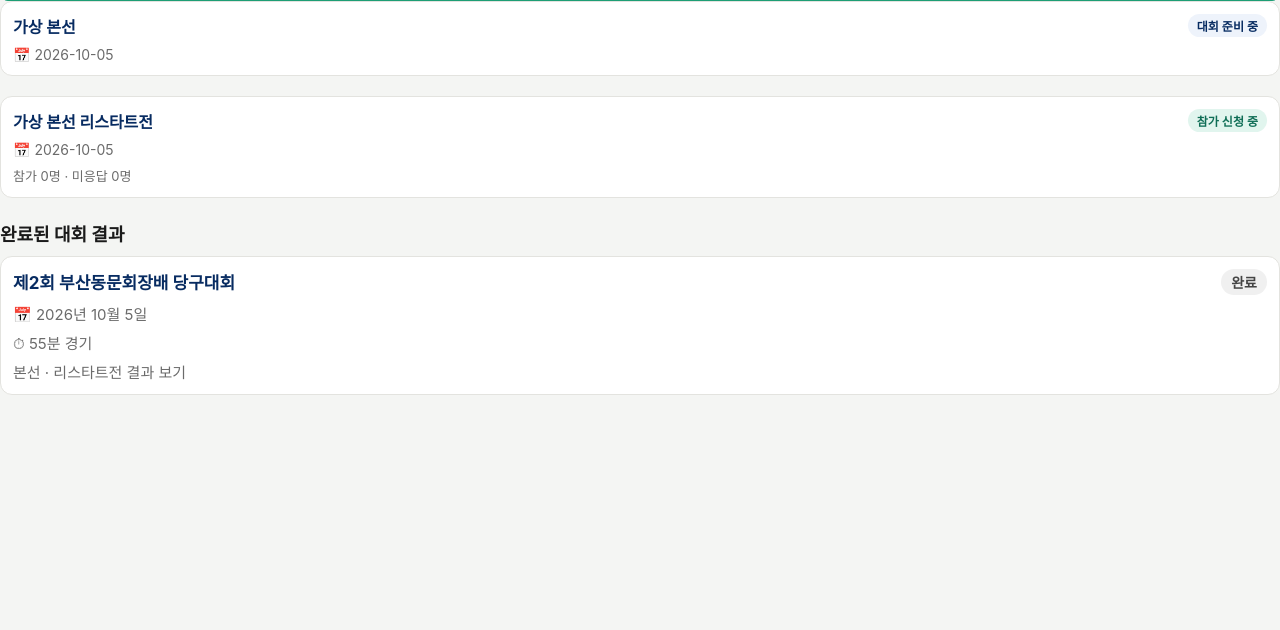
it: 리스타트 대진 자동 생성 (본선 화면, 관리자) › 본선 1차가 아직 다 승인되지 않았으면 만들 수 없다(승인 대기 경기는 반영하지 않음)
Click the text "가상 본선" at (44, 26), box [13, 14, 76, 38]
(page scrolled)
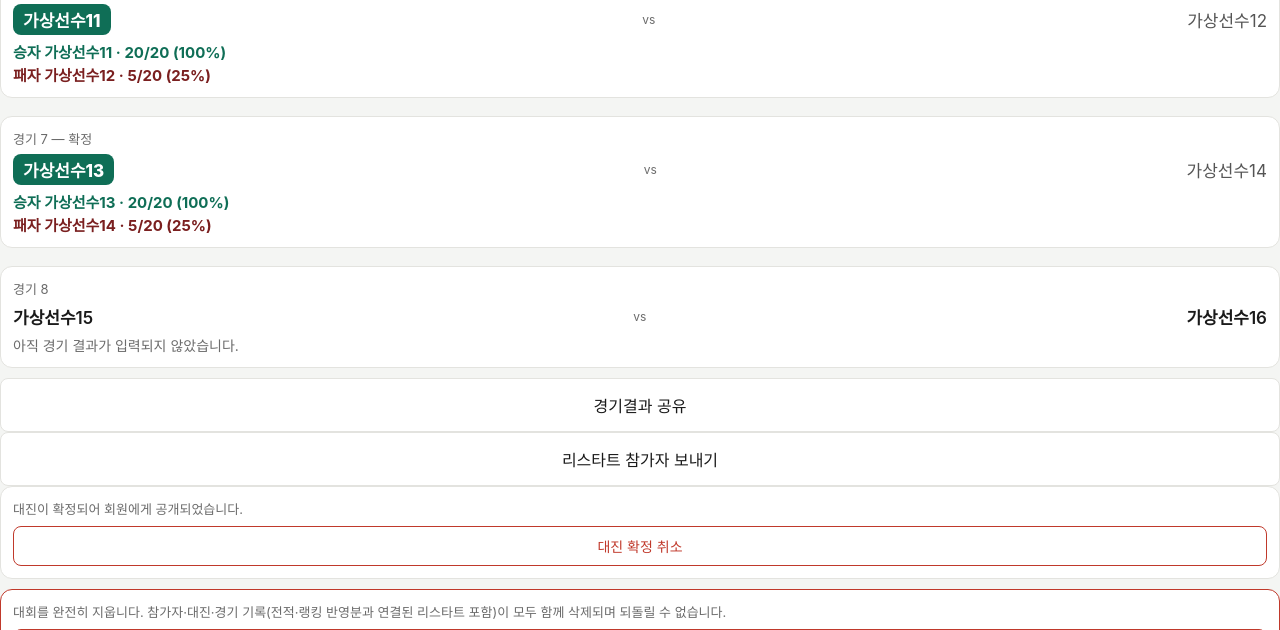
Click the button "리스타트 참가자 보내기" at (640, 459), box [0, 432, 1279, 486]
(page scrolled)
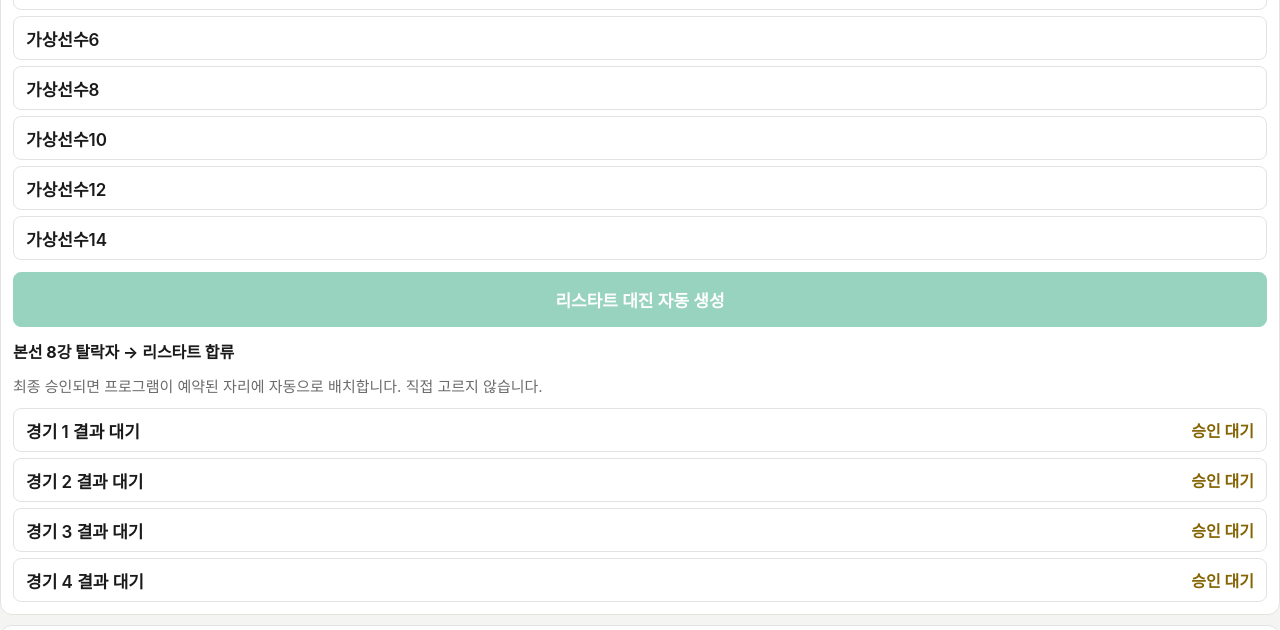
Result: the button "리스타트 대진 자동 생성" is disabled at [13, 272, 1267, 327]
